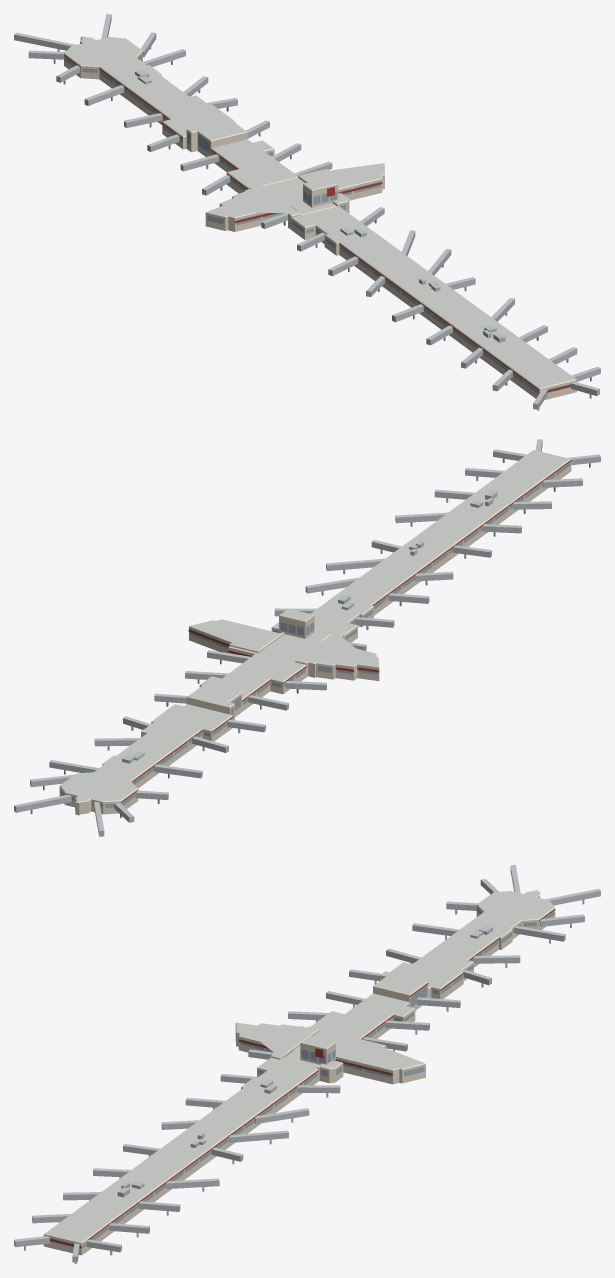
The model's file is atl-hartsfield-jackson-concourse-c.glb.
The picture shows the model from 3 angles, top to bottom: view 1: azimuth 30°, elevation 25°; view 2: azimuth 150°, elevation 25°; view 3: azimuth 330°, elevation 25°; orthographic projection.
Visible parts, largest first — view 1: Hartsfield-Jackson Concourse C; view 2: Hartsfield-Jackson Concourse C; view 3: Hartsfield-Jackson Concourse C.
Part boxes in pixels (x1=…): Hartsfield-Jackson Concourse C: x1=14, y1=14, x2=600, y2=410; Hartsfield-Jackson Concourse C: x1=14, y1=439, x2=600, y2=836; Hartsfield-Jackson Concourse C: x1=14, y1=865, x2=600, y2=1263.
Bounding box in the file's own units: 140 × 22.1 × 673.
